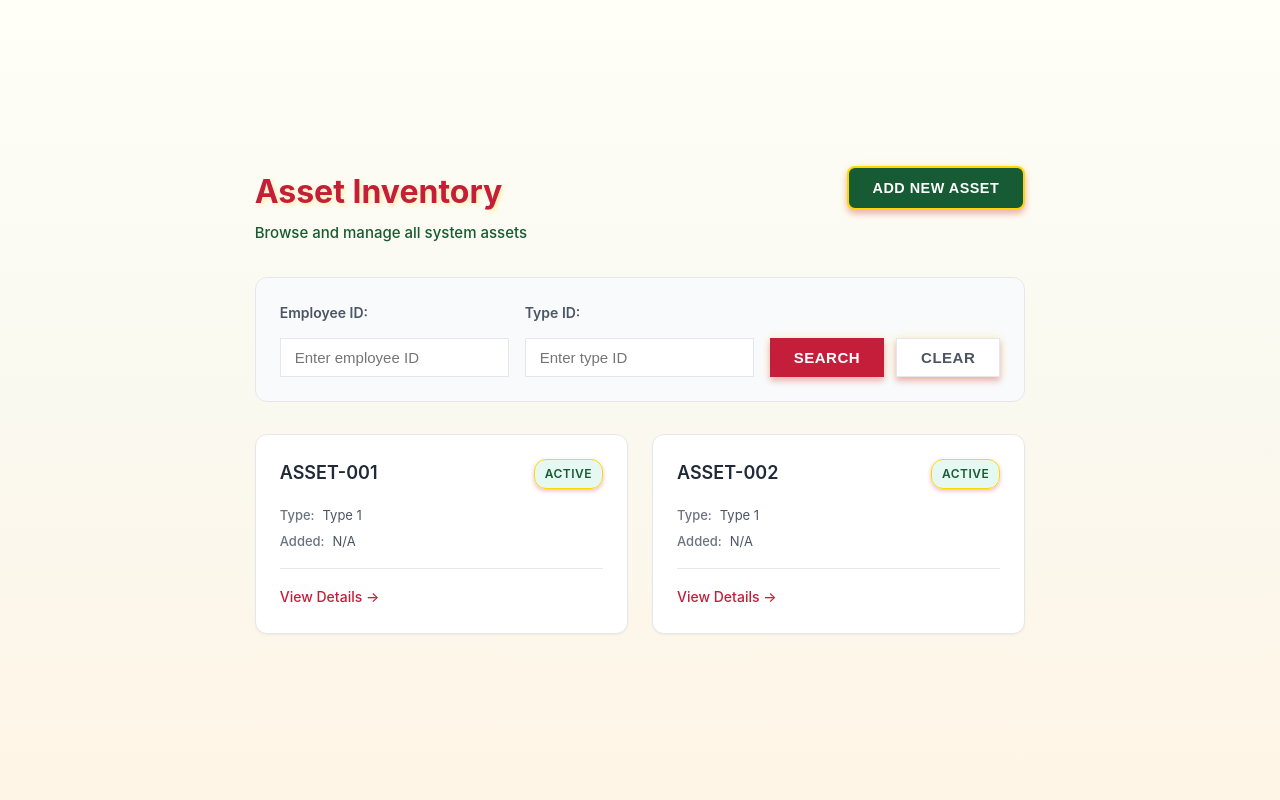
Test: AssetListView.vue › clears filters when Clear button is clicked
Type "1" into the field with id "employeeIdFilter". click: [394, 358]
box: [280,338,509,377]
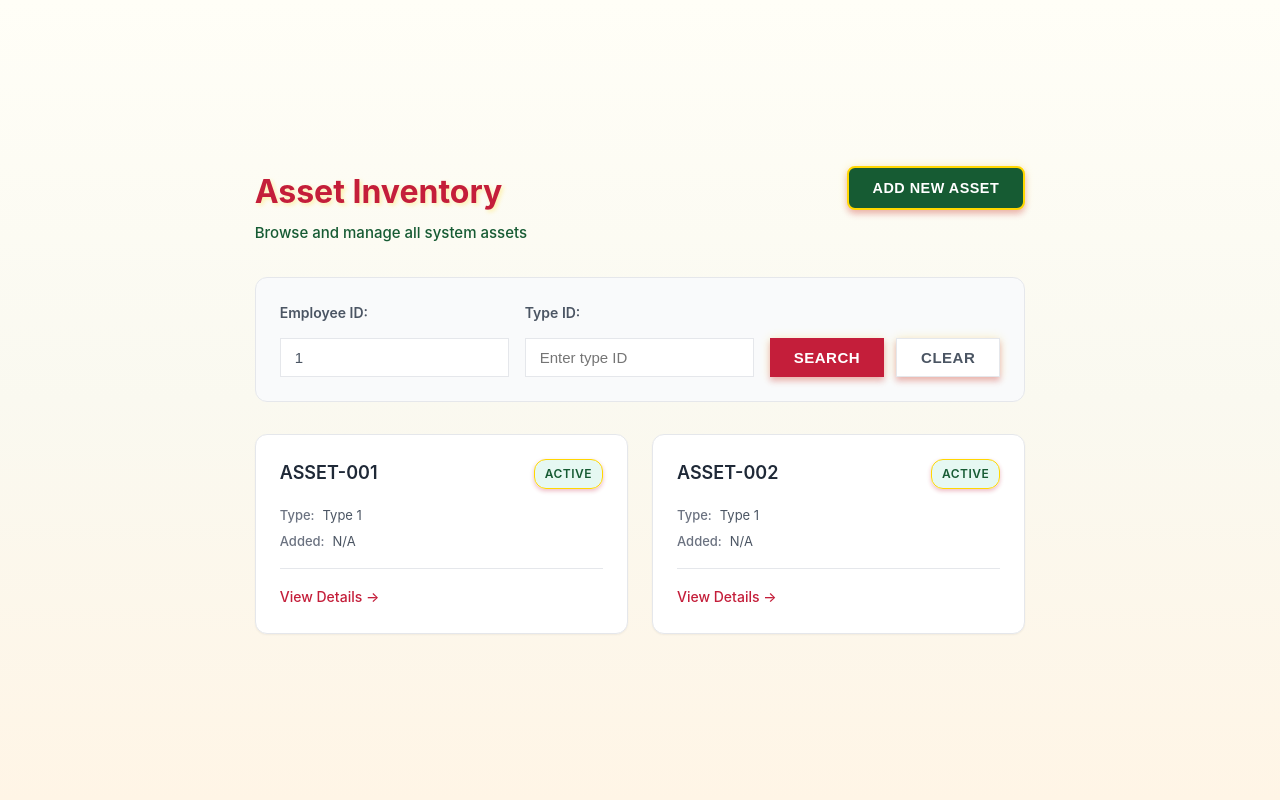
Click the button with class "btn-filter". click: [827, 358]
box: [770,338,884,377]
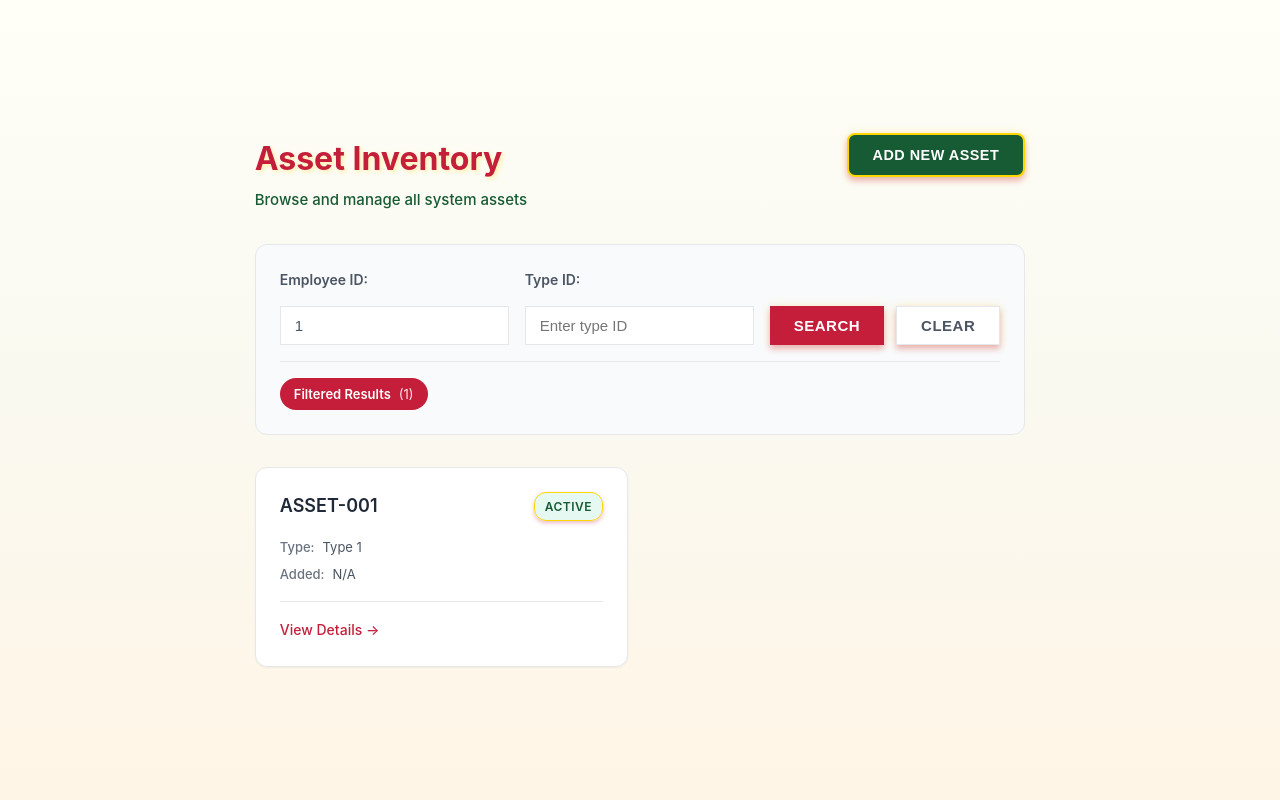
Click the button with class "btn-clear". click: [948, 325]
box: [896,306,1000,344]
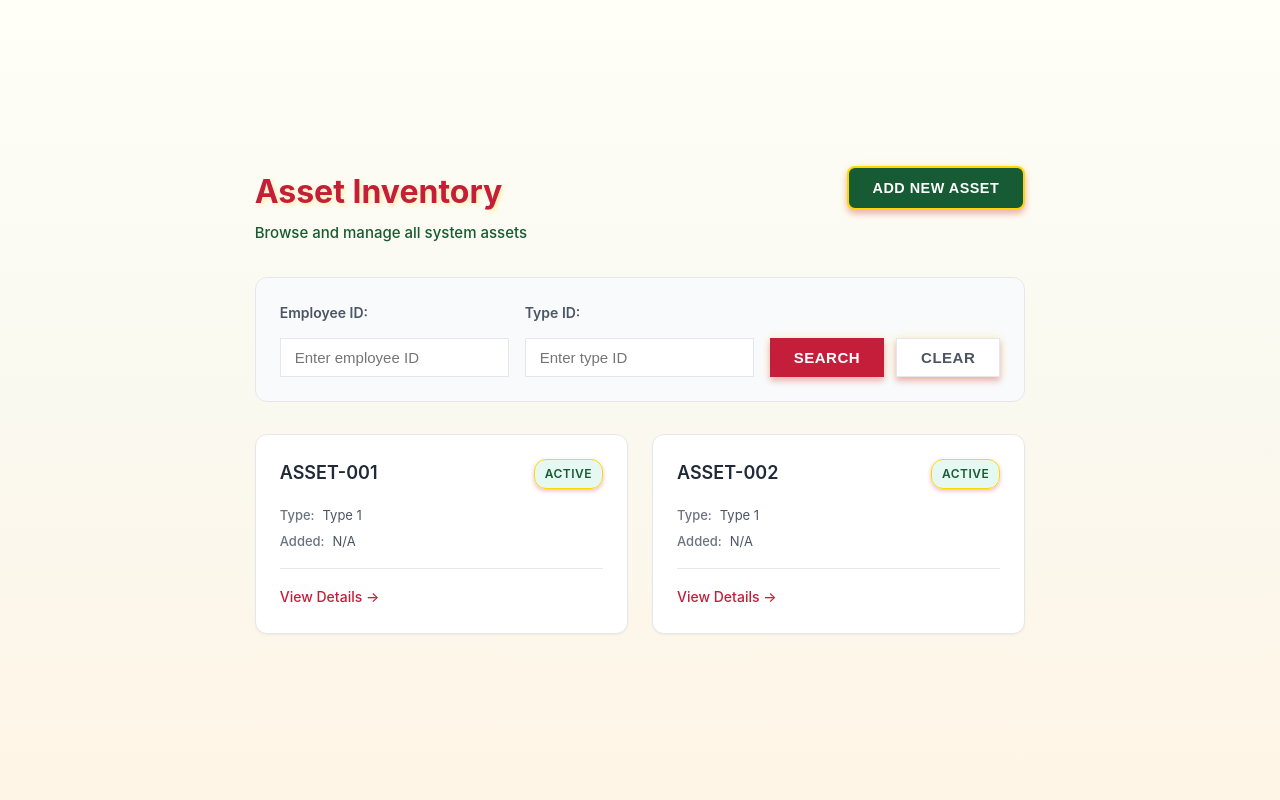
Expected: the number of elements with class "asset-card" is 2, [255,434,628,634]; [652,434,1025,634]
Expected: the field with id "employeeIdFilter" is empty, [280,338,509,377]
